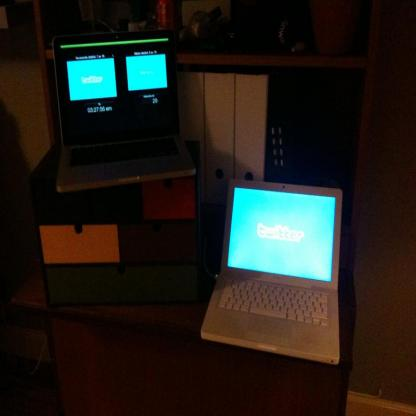board: (200, 183, 346, 365), (52, 28, 196, 191)
